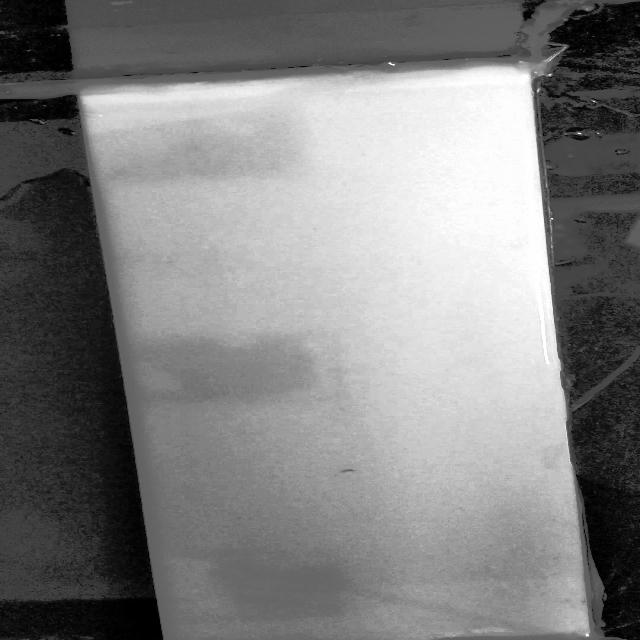shrimp: (332, 463, 366, 480)
